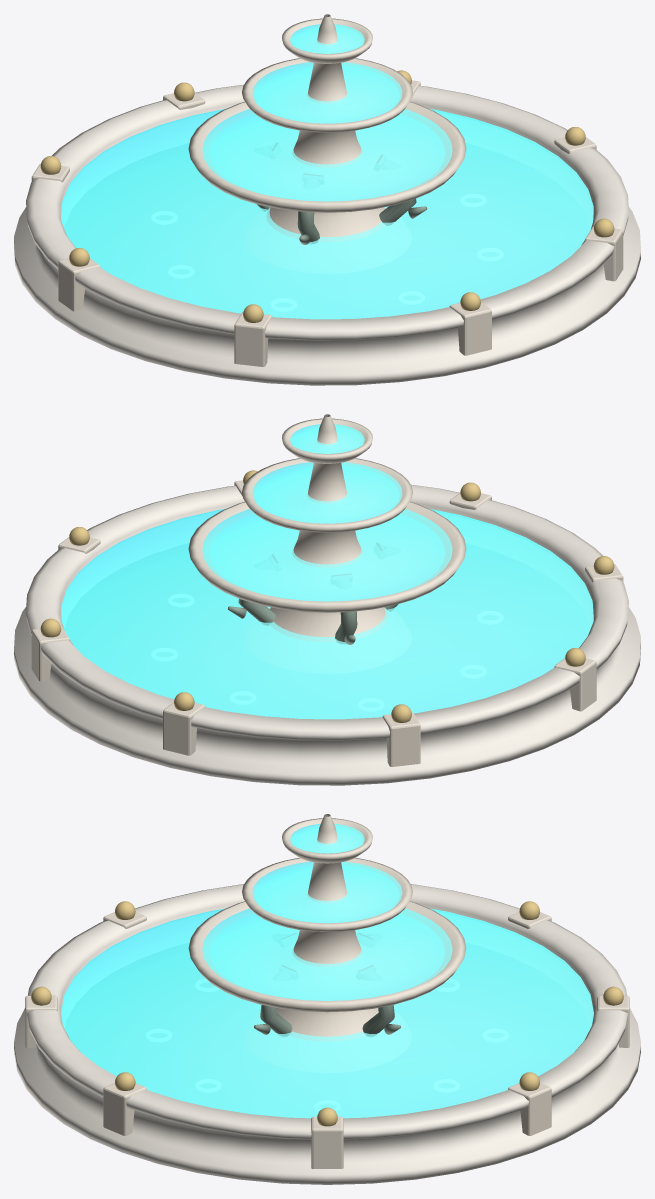
Rendered from fountain_plaza_grand.glb.
3 renders of one model, top to bottom at view 1: azimuth 30°, elevation 25°; view 2: azimuth 150°, elevation 25°; view 3: azimuth 270°, elevation 25°, orthographic.
Parts seen in each view (by area): view 1: GrandBasin; view 2: GrandBasin; view 3: GrandBasin.
Part boxes in pixels (bbox=[...]): GrandBasin: bbox=[14, 14, 640, 385]; GrandBasin: bbox=[14, 414, 640, 785]; GrandBasin: bbox=[14, 814, 640, 1184].
Bounding box in the file's own units: 12.1 × 5.05 × 12.1.
